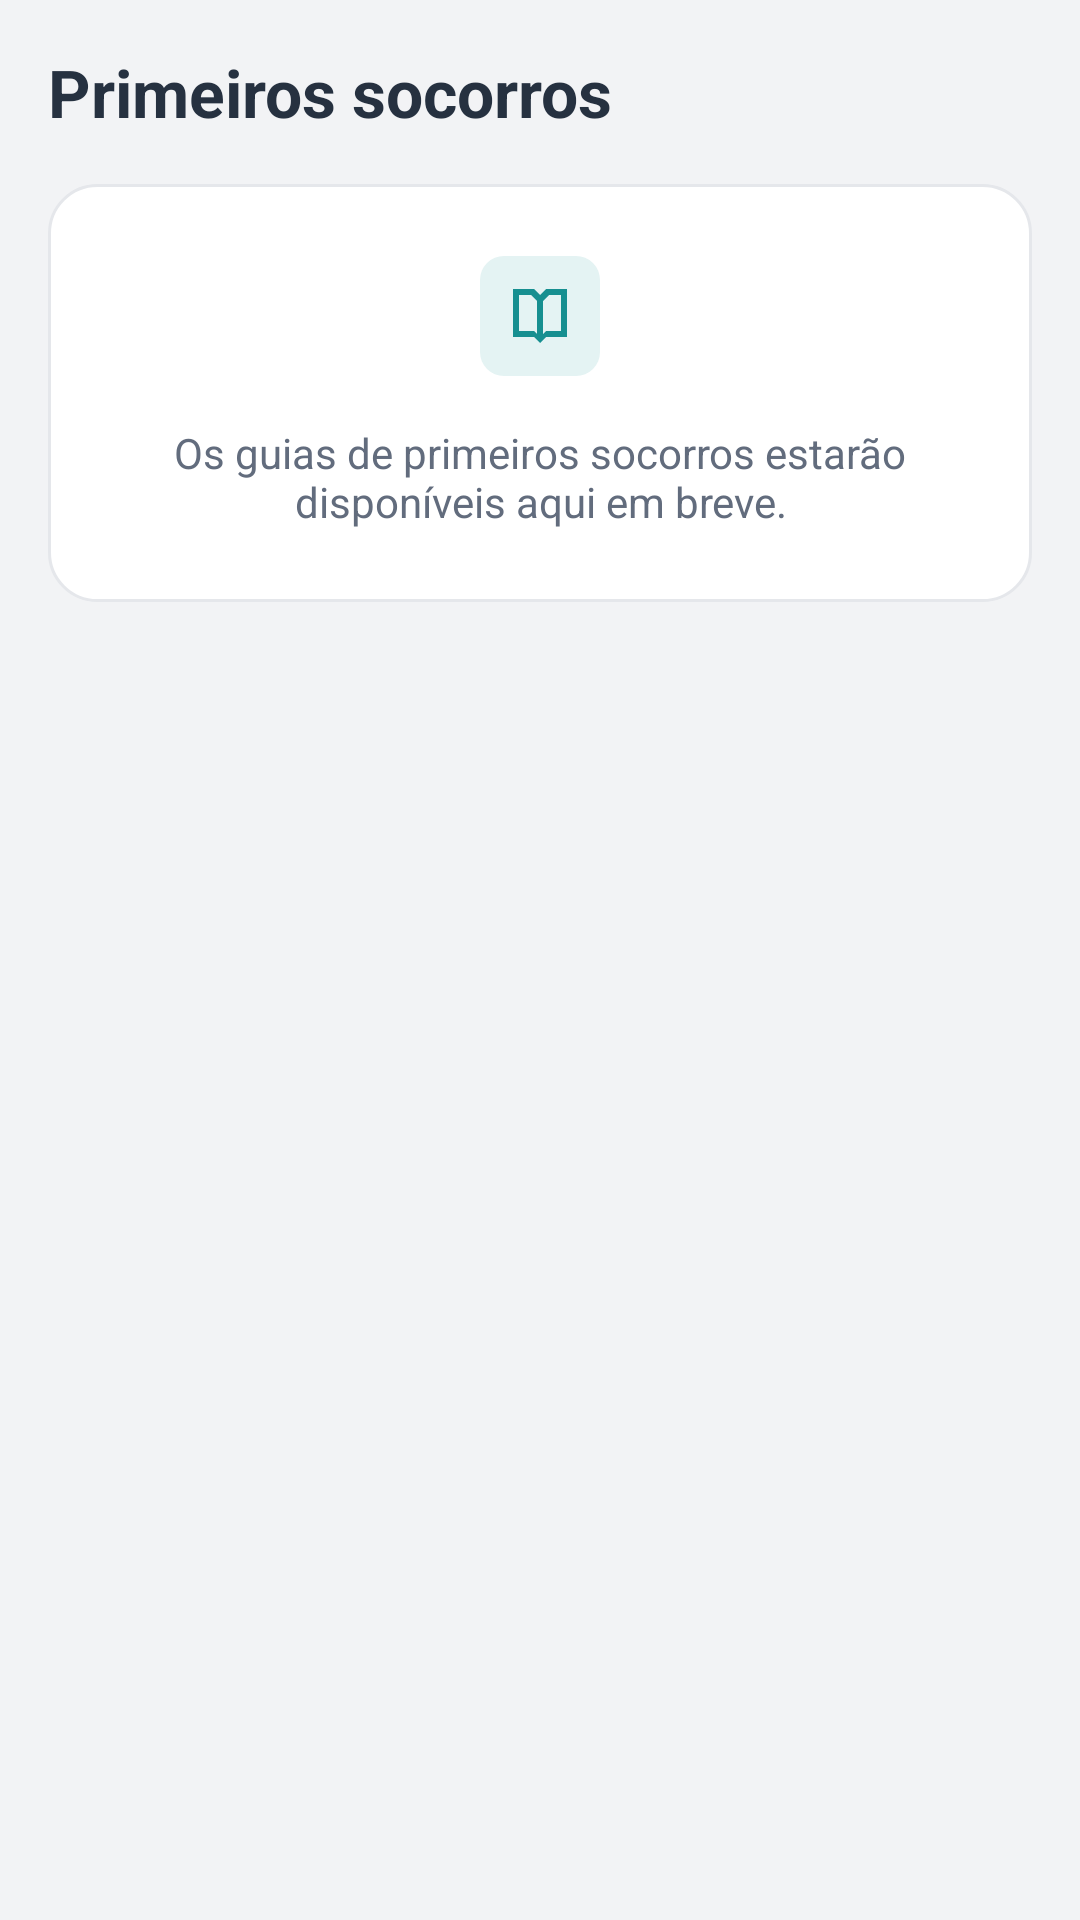

Named icons in this screenshot (1080x1920) and their centers, point (x, y):
book: point (540, 316)
